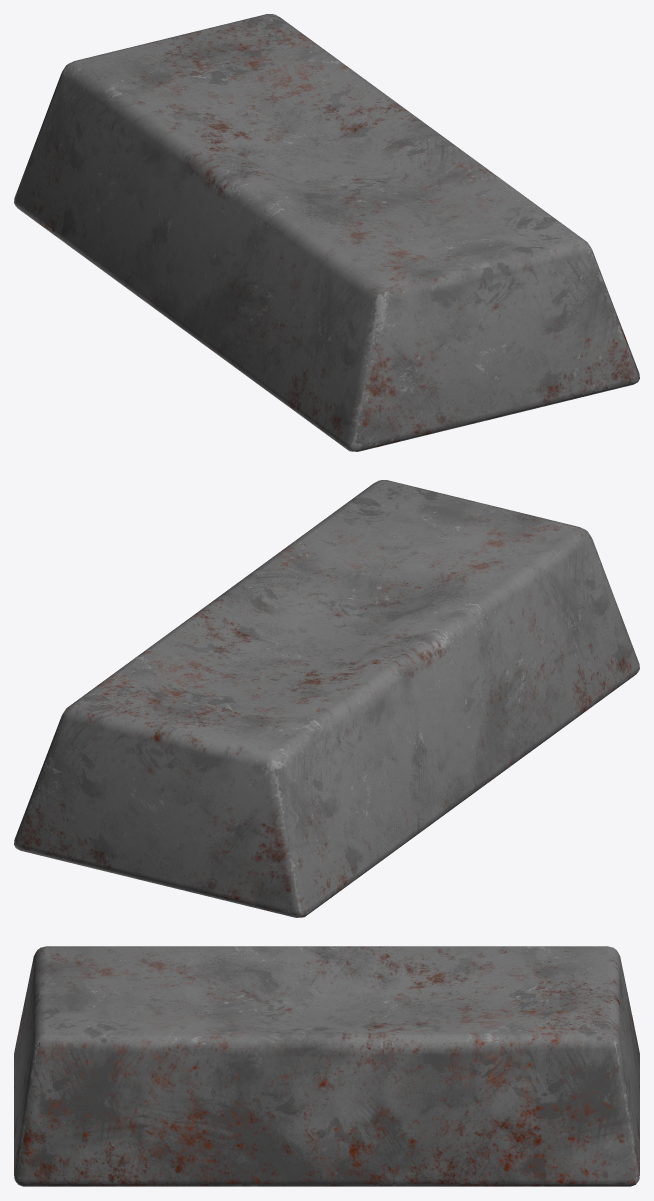
File: iron_ingot_model.fbx
3 renders of one model, top to bottom at view 1: azimuth 30°, elevation 25°; view 2: azimuth 150°, elevation 25°; view 3: azimuth 270°, elevation 25°, orthographic. The views are drawn at different scales.
Visible parts, largest first — view 1: Iron; view 2: Iron; view 3: Iron.
Part boxes in pixels (bbox=[...]): Iron: bbox=[14, 14, 639, 451]; Iron: bbox=[14, 480, 639, 917]; Iron: bbox=[14, 946, 639, 1186].
Bounding box in the file's own units: 0.955 × 1.94 × 0.4541.
Materials: 1 (1 with a texture image).
